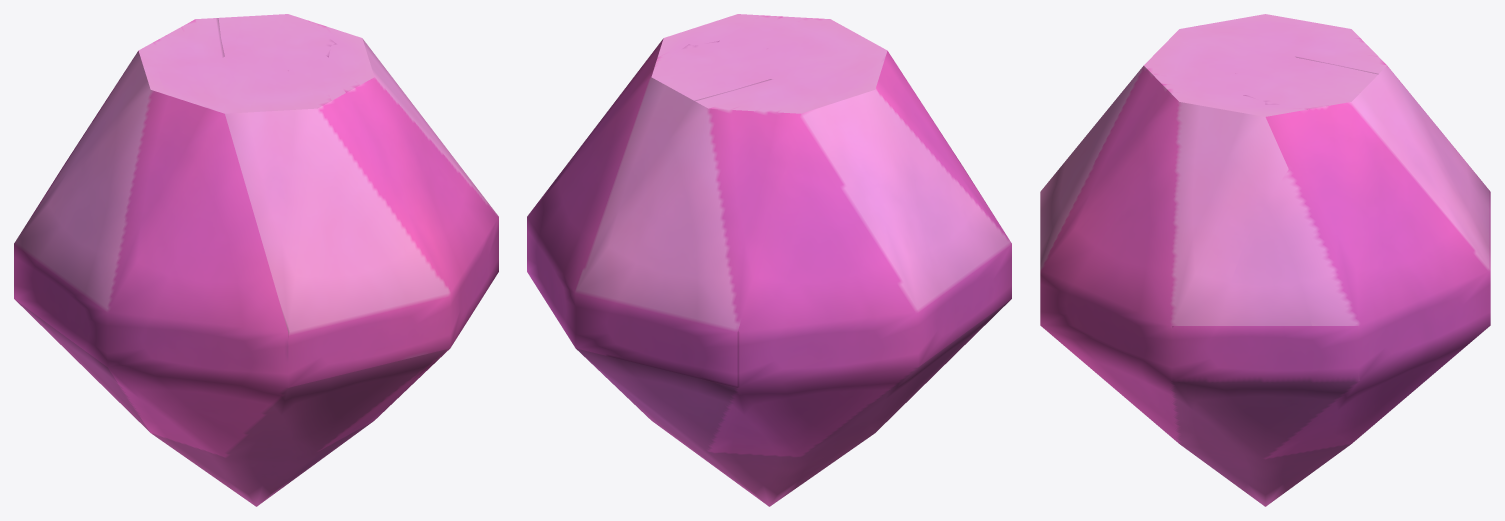
Rendered from G03b_MagentaGem.fbx.
The picture shows the model from 3 angles, left to right: view 1: azimuth 30°, elevation 25°; view 2: azimuth 150°, elevation 25°; view 3: azimuth 270°, elevation 25°; orthographic projection.
Parts seen in each view (by area): view 1: G03b_MagentaGem; view 2: G03b_MagentaGem; view 3: G03b_MagentaGem.
Part boxes in pixels (x1,y1,x2,y2): G03b_MagentaGem: (14, 14, 498, 506); G03b_MagentaGem: (527, 14, 1011, 506); G03b_MagentaGem: (1040, 14, 1490, 506).
Size of the model in its own units: 0.7391 by 0.8 by 0.7391.
